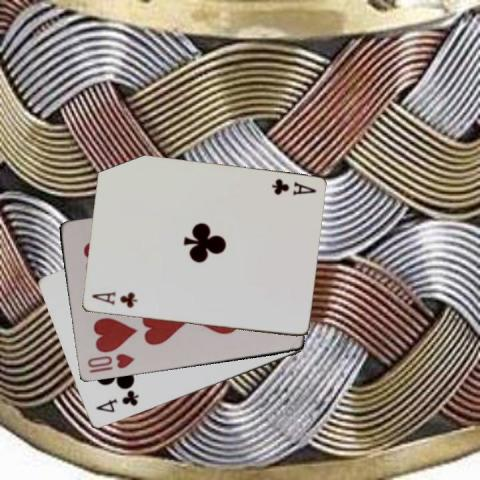10h: (84, 350, 136, 374)
4c: (92, 388, 140, 415)
Ac: (88, 289, 138, 310), (268, 176, 317, 197)
